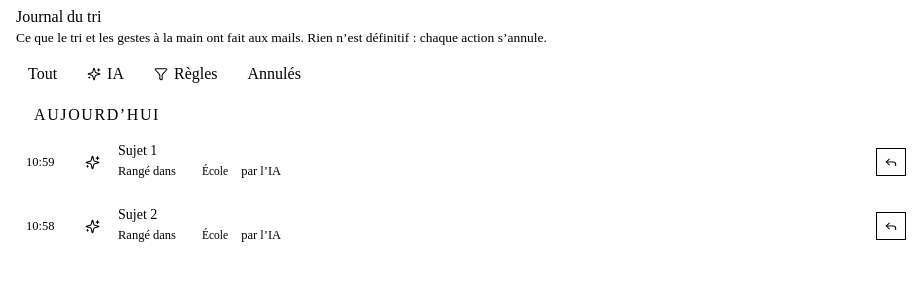
Scenario: Journal › explains a refused undo under its own row
Expected: the text "Sujet 1" is shown, [118,143,157,158]
Click the button named "Annuler" in the row of "Sujet 2" at x=891, y=226, box [876,212,906,240]
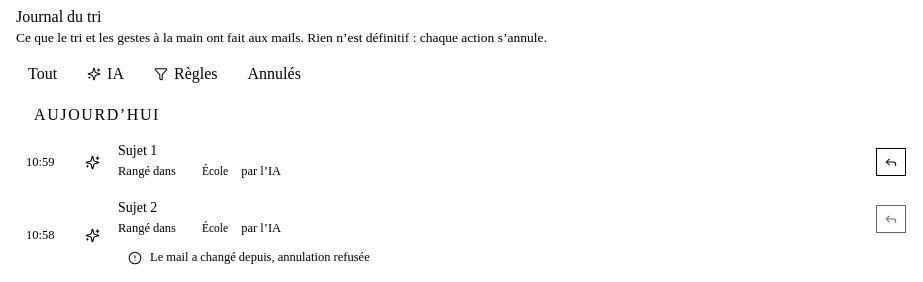
Expected: the list item "Sujet 1" does not show "annulation refusée", [26,143,906,178]
Expected: the list item "Sujet 2" shows "Le mail a changé depuis, annulation refusée", [150,250,370,264]
Expected: the element showing "Le mail a changé depuis, annulation refusée" is shown, [128,250,370,264]
